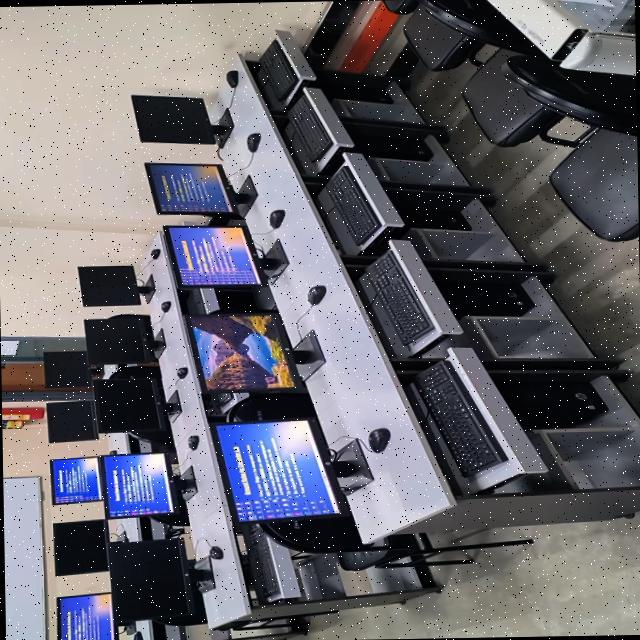Chair: (385, 0, 591, 146), (502, 54, 639, 240), (259, 514, 531, 570), (229, 392, 315, 421)
Cpu: (367, 188, 494, 253), (495, 377, 607, 428), (437, 274, 534, 318), (305, 68, 406, 102), (346, 123, 432, 160)
Fire Extinguisher: (1, 405, 44, 419), (2, 418, 24, 428)
Keyboard: (416, 360, 507, 476), (364, 249, 434, 344), (325, 165, 381, 244), (289, 94, 333, 161), (248, 524, 280, 602), (260, 38, 298, 102), (186, 287, 206, 313)
Monitor: (215, 419, 348, 521), (108, 537, 212, 622), (190, 313, 297, 393), (164, 225, 264, 287), (144, 162, 252, 217), (100, 452, 180, 517), (93, 375, 166, 432), (131, 94, 215, 143), (84, 313, 153, 363), (52, 518, 108, 574), (78, 265, 154, 305), (57, 591, 118, 640), (50, 456, 101, 503), (46, 400, 98, 441), (44, 350, 92, 387)
Mouse: (368, 427, 390, 451), (307, 285, 326, 304), (269, 209, 284, 228), (247, 132, 260, 151), (226, 69, 237, 87), (208, 545, 223, 558), (187, 434, 198, 449), (176, 366, 187, 377), (132, 630, 142, 640), (161, 300, 170, 311), (150, 248, 159, 258)
